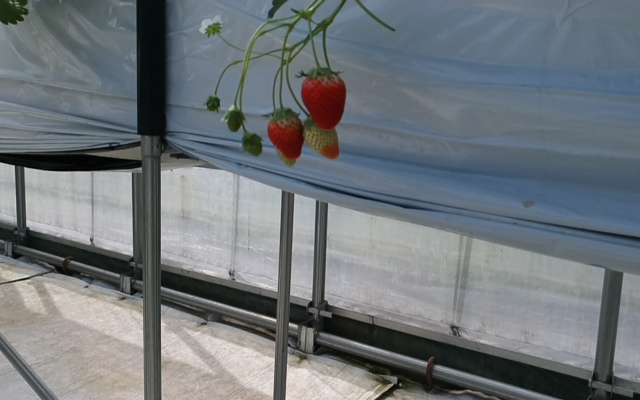GreenStrawberry: (302, 118, 341, 160), (240, 135, 264, 157), (226, 107, 245, 134)
MatureStrawberry: (300, 66, 348, 130), (264, 107, 305, 160)
